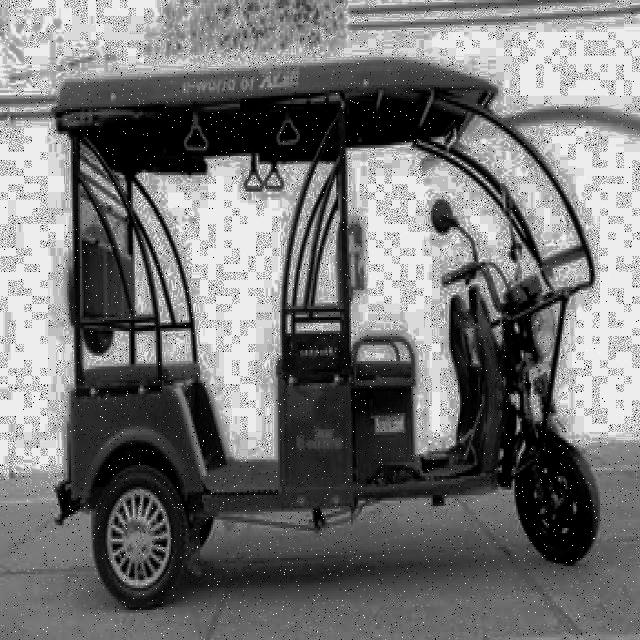Toto: (49, 53, 593, 597)
